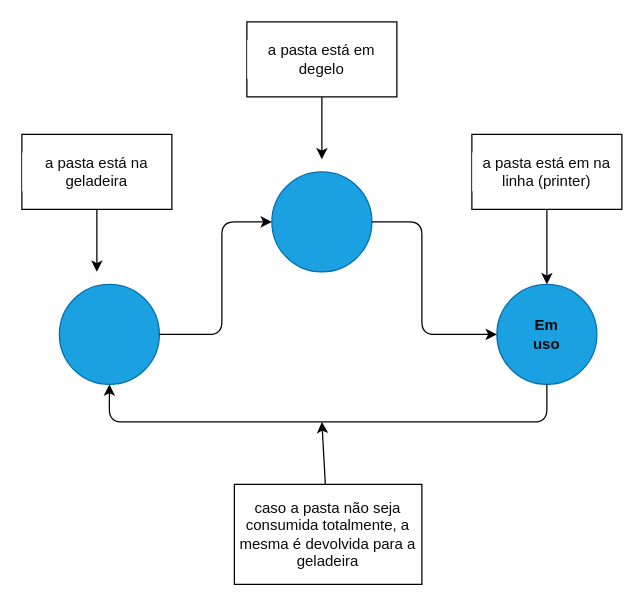
Some shapes in this 644 by 606 pixel diagram are drawn without their labels. Here are the shapes that lost their labels. From the top down, the centre of each, then its label:
the point at 321,221: Bloqueado
the point at 108,333: Em repouso
